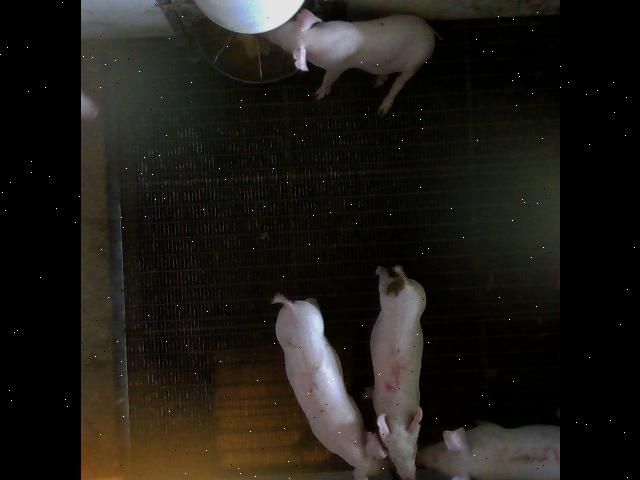pig-3: (417, 422, 560, 480)
pig-5: (369, 265, 425, 480)
